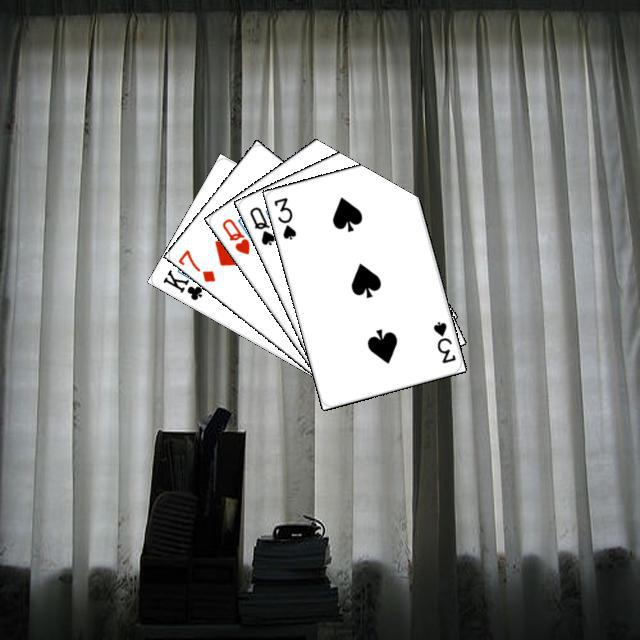3s: (269, 192, 298, 241), (428, 316, 457, 365)
7d: (173, 244, 217, 284)
Kc: (158, 264, 212, 302)
Qh: (217, 214, 252, 256)
Qs: (245, 202, 277, 247)
